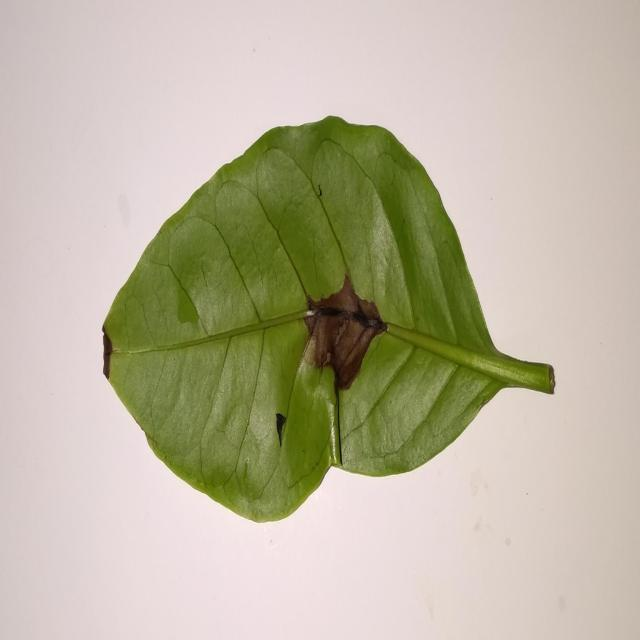phoma: (305, 275, 387, 392)
